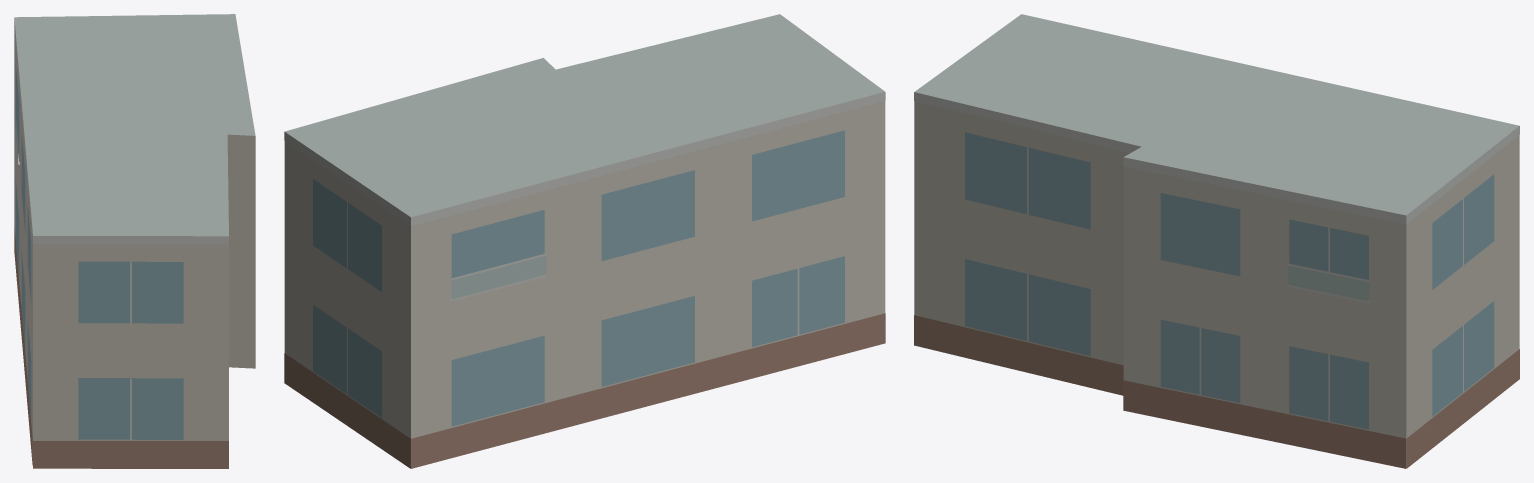
Rendered from survey-upis-32498792.glb.
3 views of the same model, side by side, from view 1: azimuth 30°, elevation 25°; view 2: azimuth 150°, elevation 25°; view 3: azimuth 270°, elevation 25° (orthographic). The views are drawn at different scales.
Parts seen in each view (by area): view 1: survey-upis-32498792.tmp; view 2: survey-upis-32498792.tmp; view 3: survey-upis-32498792.tmp.
Boxes of the visible parts, bbox=[...] form: survey-upis-32498792.tmp: bbox=[14, 14, 255, 468]; survey-upis-32498792.tmp: bbox=[284, 14, 885, 468]; survey-upis-32498792.tmp: bbox=[914, 14, 1519, 468].
Bounding box in the file's own units: 11.78 × 6.9 × 14.95.
